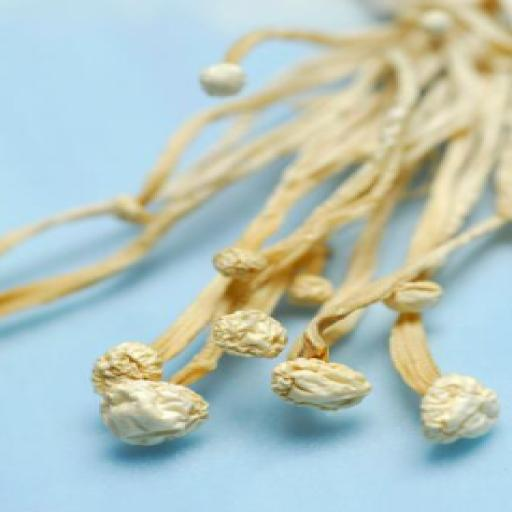Enoki Mushroom: (66, 10, 512, 454)
